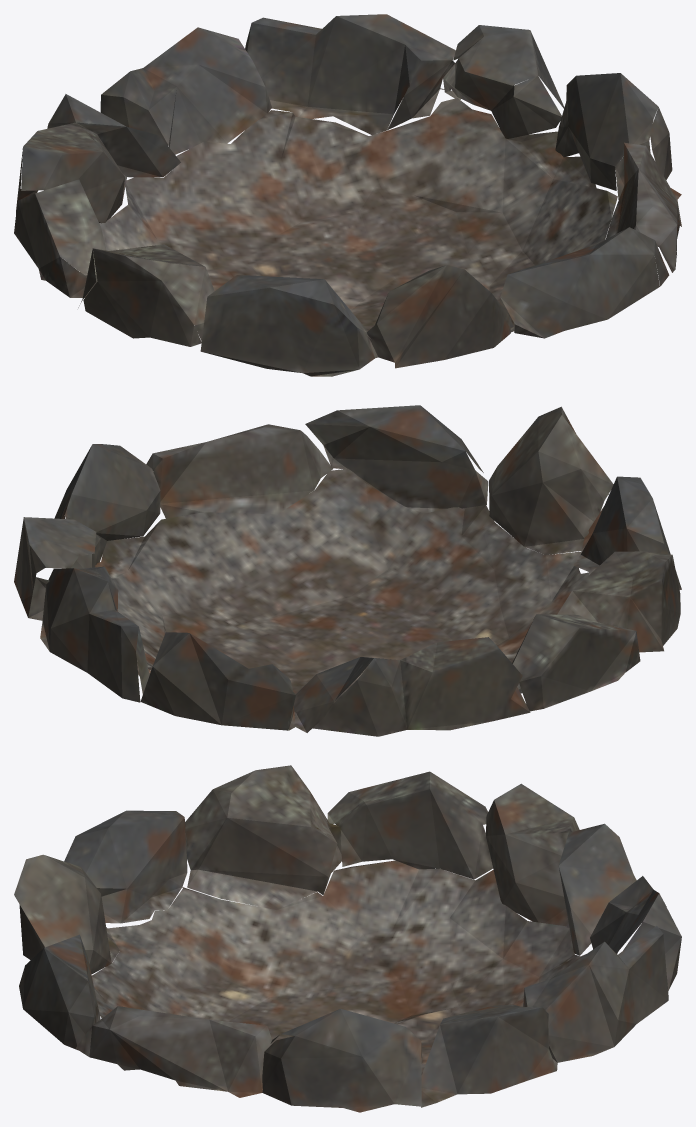
Rendered from prop_firepit.glb.
The picture shows the model from 3 angles, top to bottom: view 1: azimuth 30°, elevation 25°; view 2: azimuth 150°, elevation 25°; view 3: azimuth 270°, elevation 25°; orthographic projection.
Parts seen in each view (by area): view 1: hull; view 2: hull; view 3: hull.
Boxes of the visible parts, box(x1,y1,x2,y2) form: hull: box(14, 14, 681, 376); hull: box(14, 405, 681, 736); hull: box(14, 765, 681, 1112).
Size of the model in its own units: 2 by 0.5326 by 2.
1 material, 1 textured.
